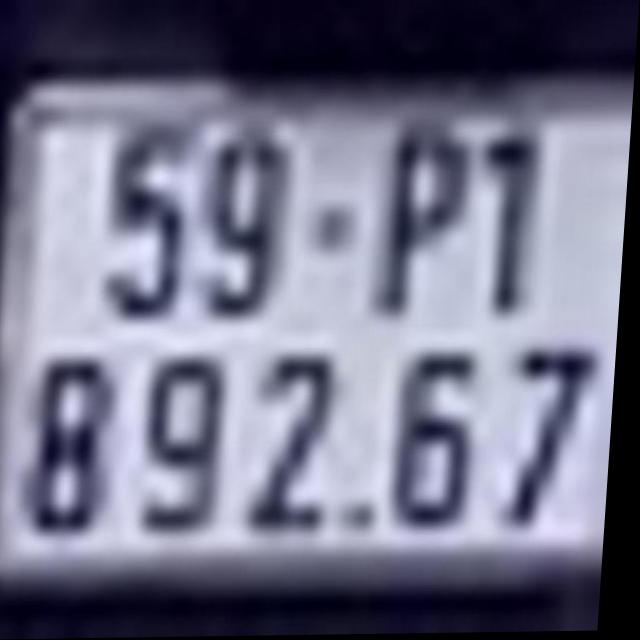1: (477, 132, 547, 319)
2: (257, 354, 340, 533)
5: (105, 129, 195, 323)
6: (399, 352, 481, 528)
7: (512, 345, 602, 529)
8: (34, 358, 122, 536)
9: (203, 132, 295, 319), (148, 357, 231, 533)
P: (381, 120, 471, 321)
